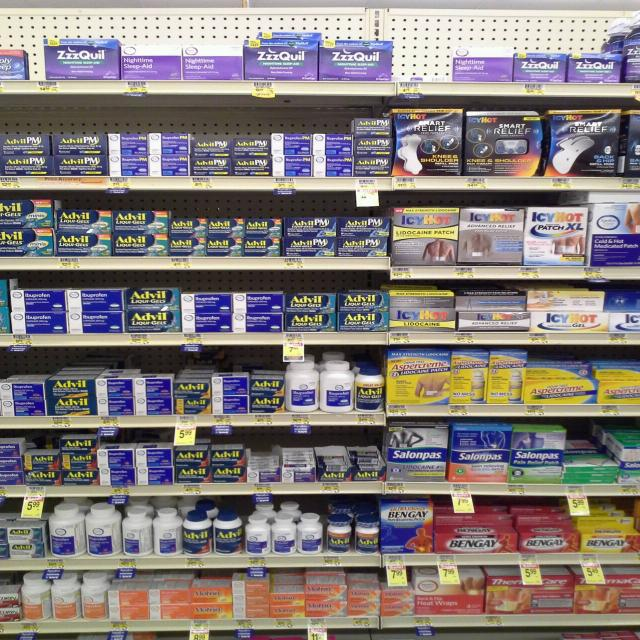empty: (391, 43, 455, 83)
